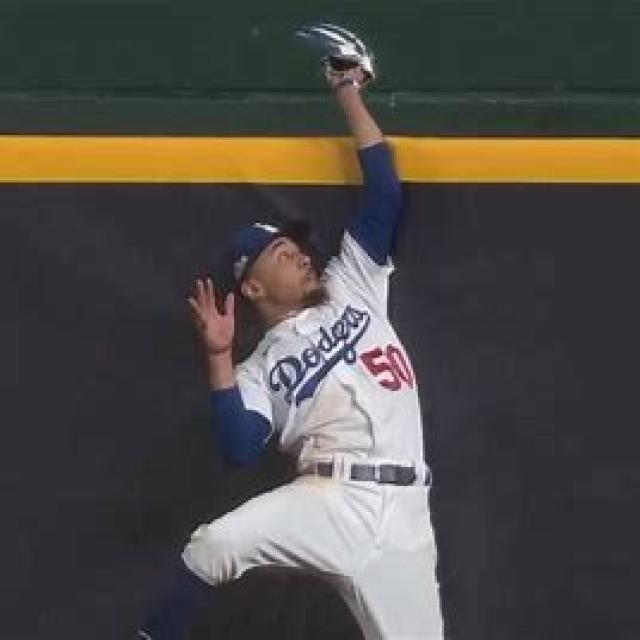glove: (290, 18, 381, 93)
